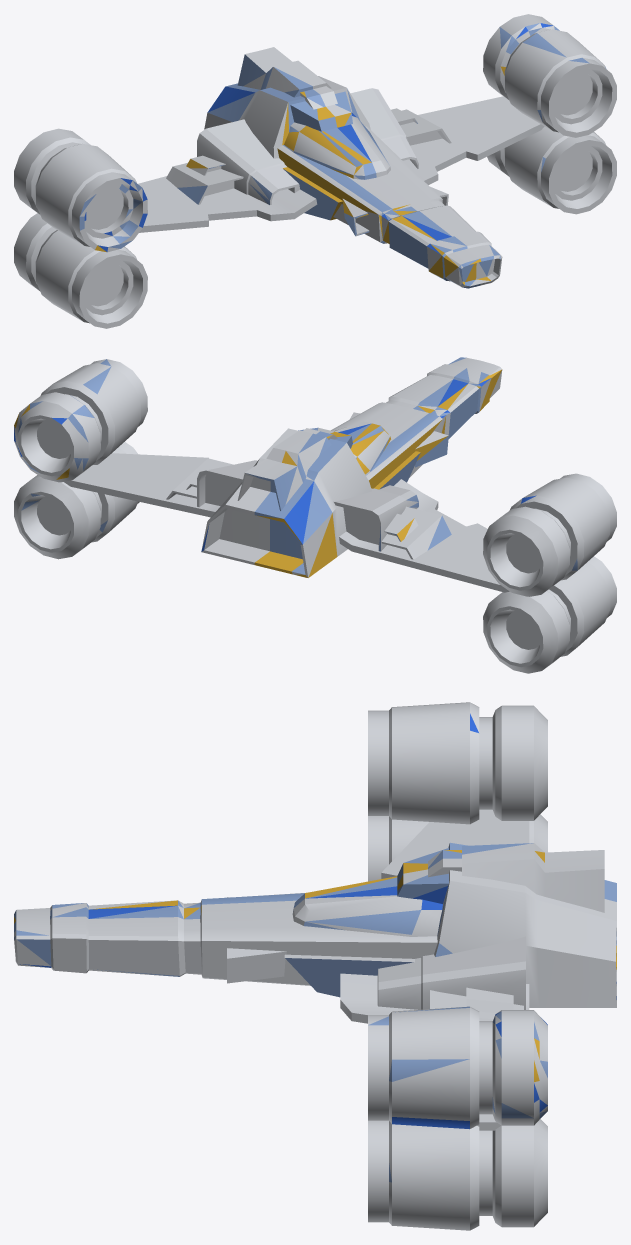
Rendered from bomber.glb.
3 renders of one model, top to bottom at view 1: azimuth 30°, elevation 25°; view 2: azimuth 150°, elevation 25°; view 3: azimuth 270°, elevation 25°, orthographic. The views are drawn at different scales.
Parts seen in each view (by area): view 1: Spitfire; view 2: Spitfire; view 3: Spitfire.
Part boxes in pixels (bbox=[...]): Spitfire: bbox=[14, 14, 616, 328]; Spitfire: bbox=[14, 357, 616, 673]; Spitfire: bbox=[14, 702, 616, 1230].
Bounding box in the file's own units: 10 × 2.9 × 7.16.
